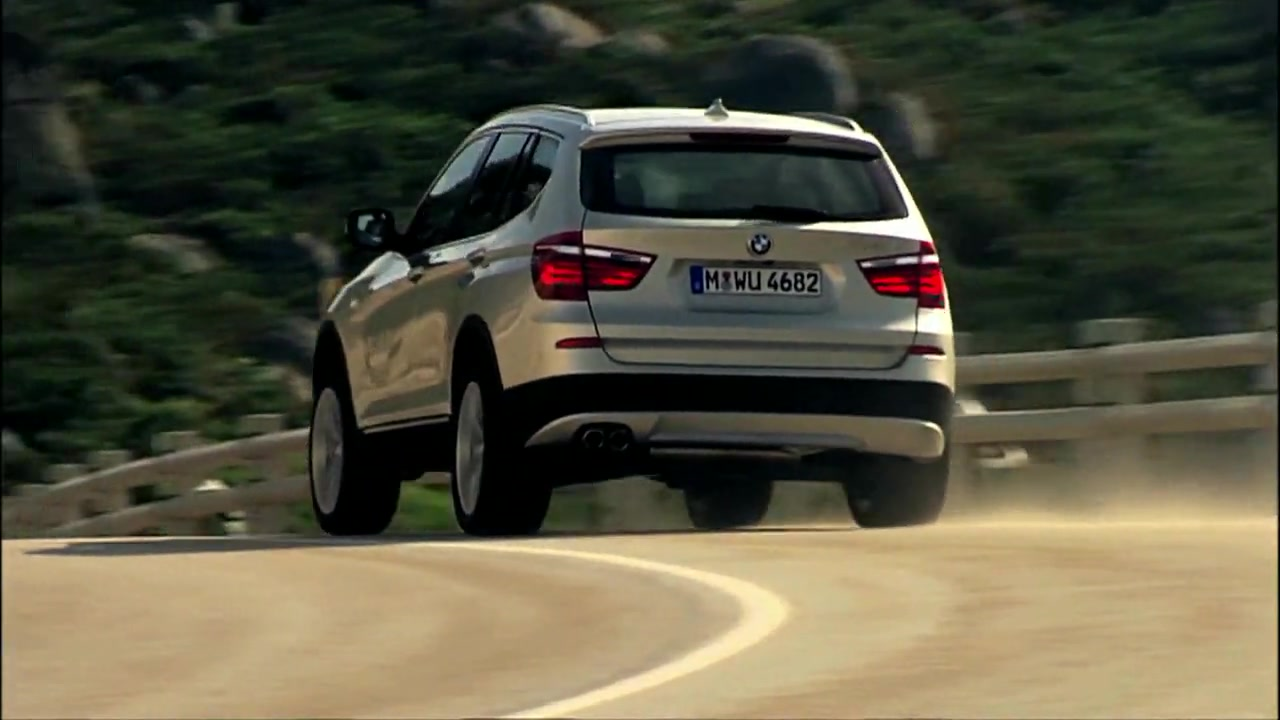car: (305, 99, 958, 533)
